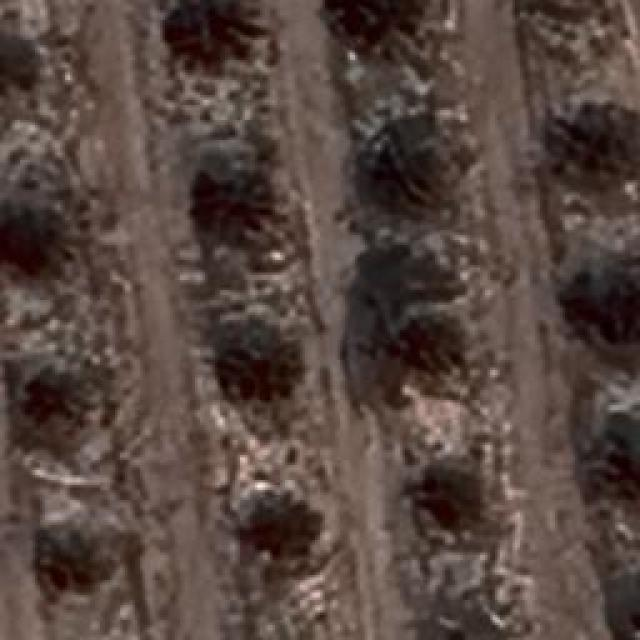PalmTree: (208, 307, 300, 405), (370, 126, 458, 212), (0, 196, 85, 282), (555, 108, 640, 192), (186, 168, 276, 232), (382, 310, 472, 373), (54, 506, 122, 584), (252, 495, 336, 555), (425, 458, 495, 526), (325, 0, 435, 42), (564, 274, 638, 336), (182, 0, 268, 50), (18, 356, 72, 429), (0, 26, 45, 100), (600, 415, 640, 483), (600, 572, 640, 640)
